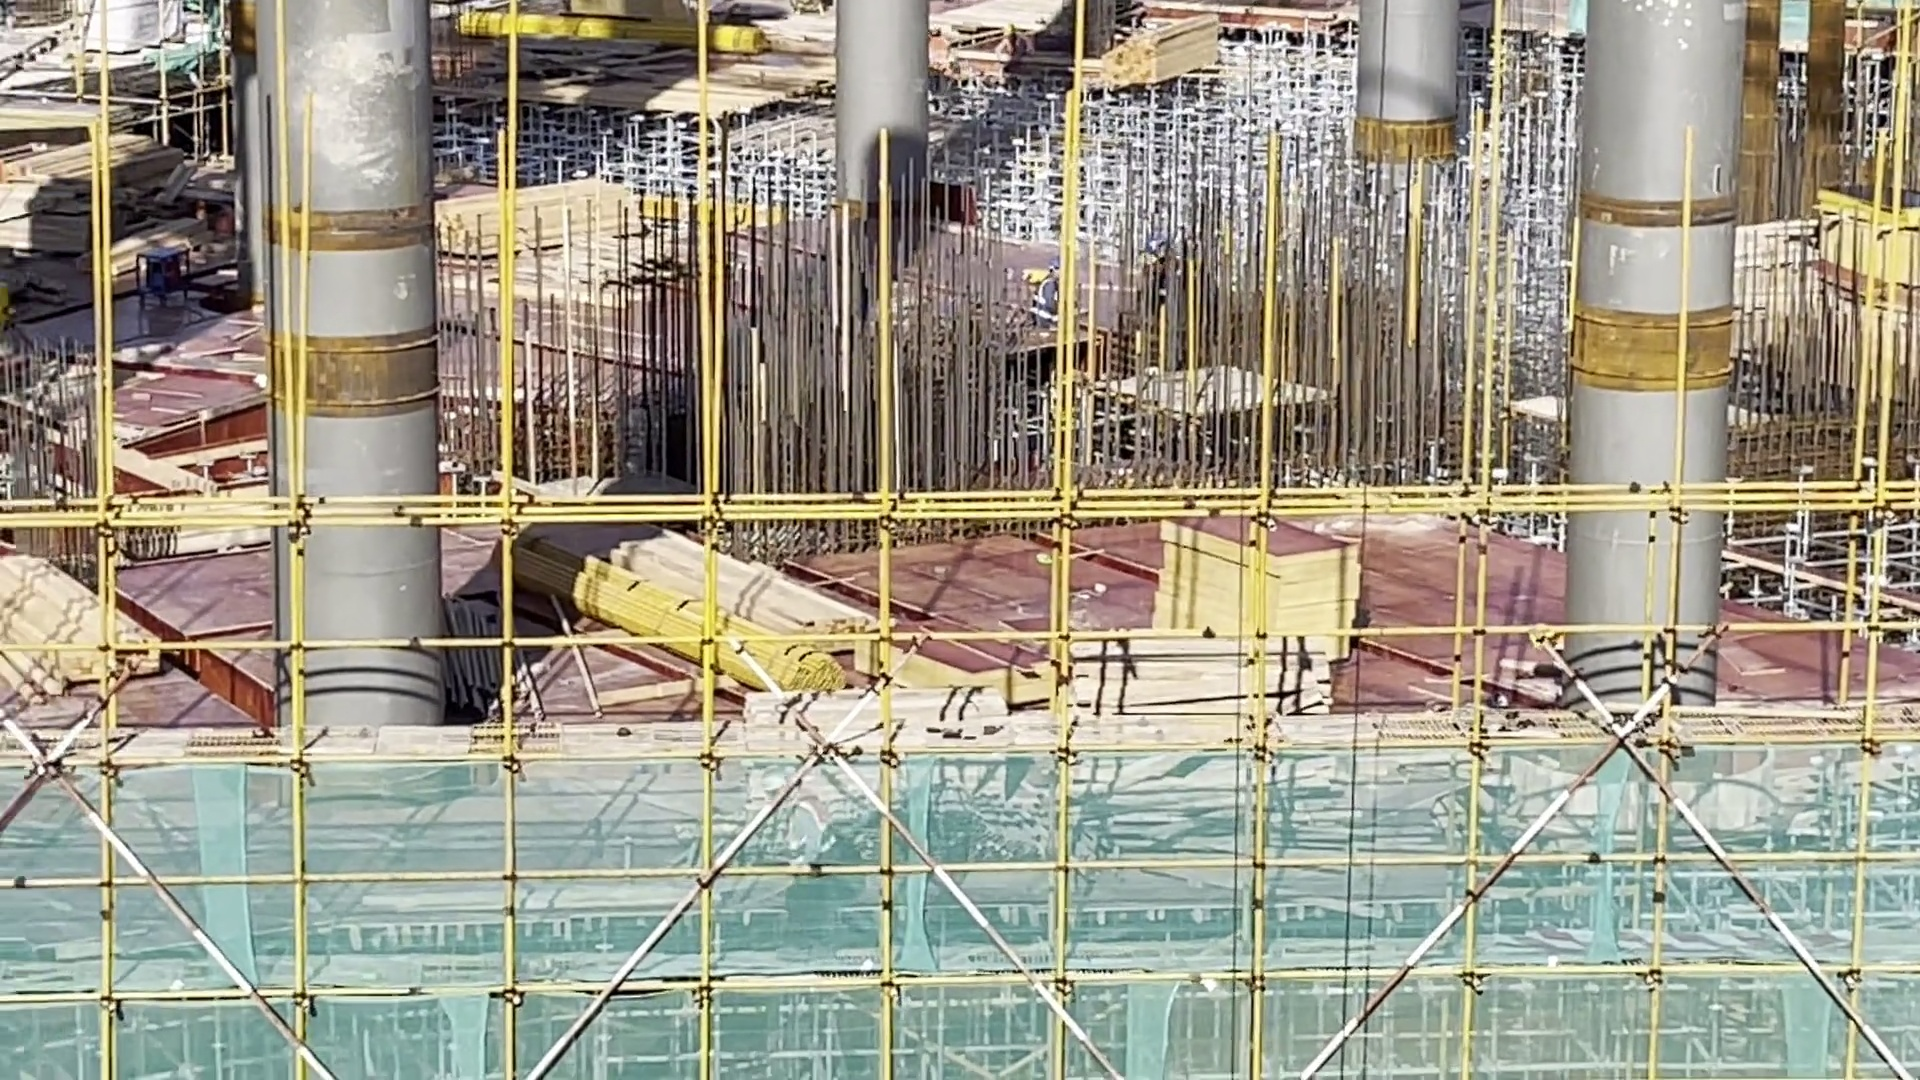board: (1160, 516, 1350, 642)
wood: (589, 530, 873, 680), (12, 556, 178, 705), (1062, 638, 1346, 715), (439, 179, 647, 256), (1091, 18, 1217, 88)
